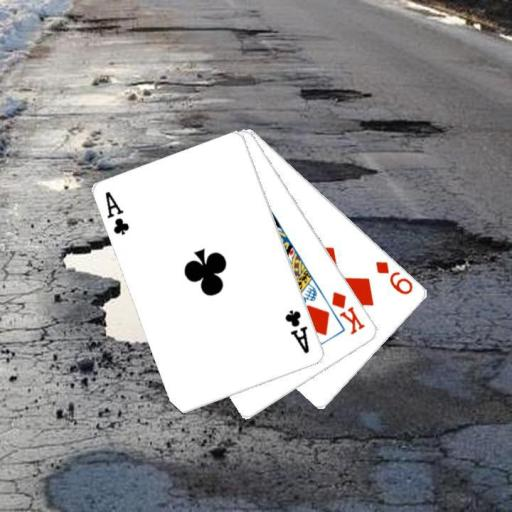9D: (373, 258, 415, 297)
AC: (282, 307, 312, 356), (103, 188, 132, 237)
KD: (328, 288, 367, 336)
